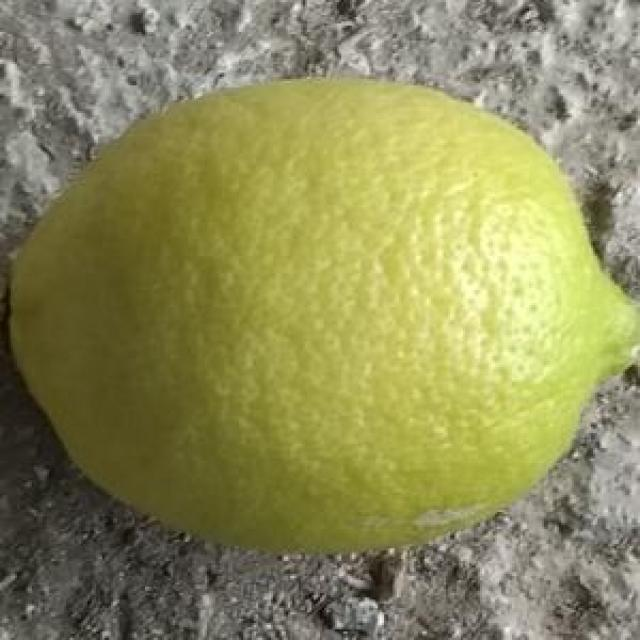lemon: (9, 71, 640, 558)
